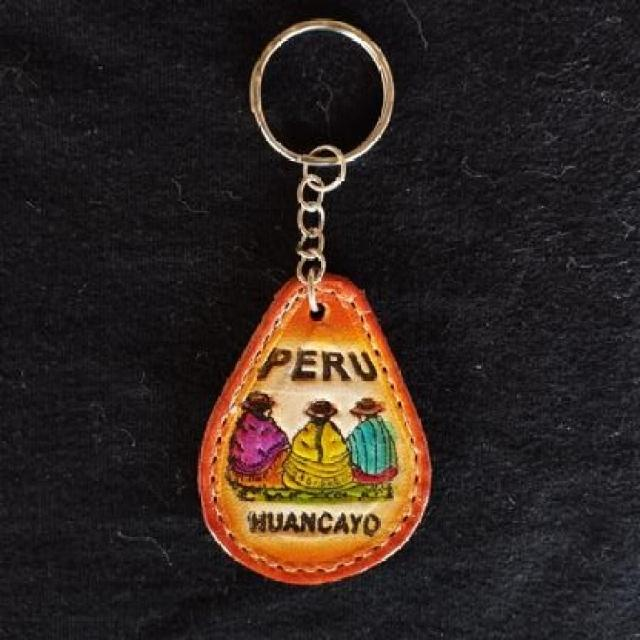Llavero: (196, 271, 433, 586)
